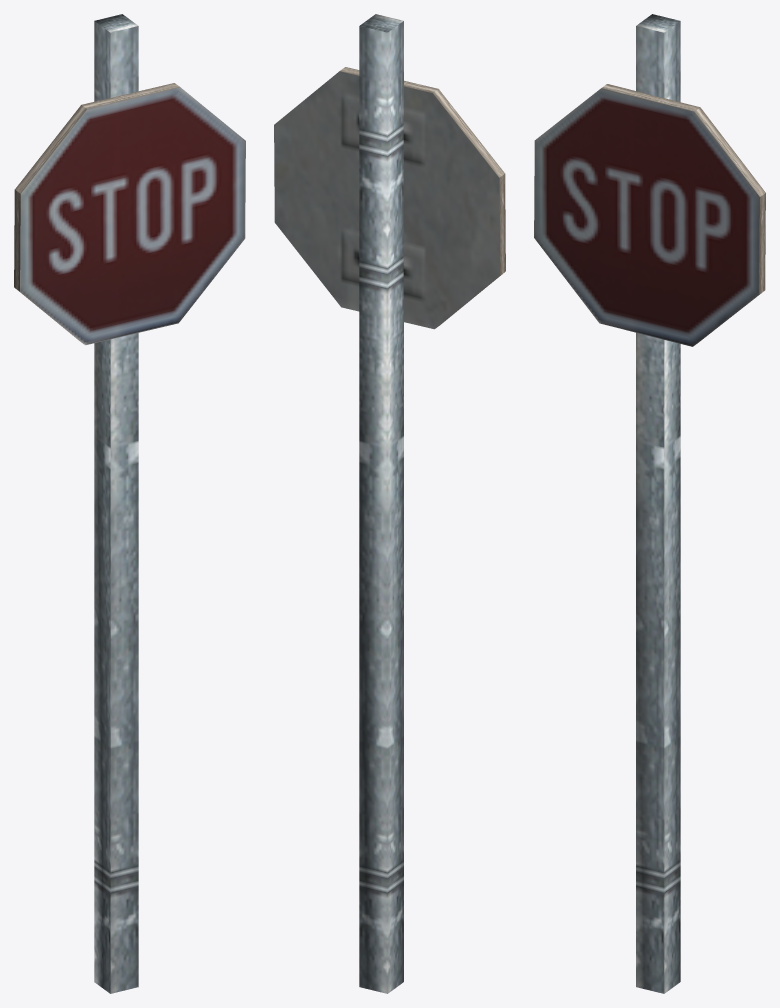
The model's file is Model_StreetSign_09.fbx.
The picture shows the model from 3 angles, left to right: view 1: azimuth 30°, elevation 25°; view 2: azimuth 150°, elevation 25°; view 3: azimuth 330°, elevation 25°; orthographic projection.
Visible parts, largest first — view 1: StreetSign_09; view 2: StreetSign_09; view 3: StreetSign_09.
Boxes of the visible parts, x1,y1,x2,y2 form: StreetSign_09: [14, 14, 245, 993]; StreetSign_09: [274, 14, 505, 993]; StreetSign_09: [534, 14, 765, 993].
Bounding box in the file's own units: 51.64 × 210 × 8.73.
